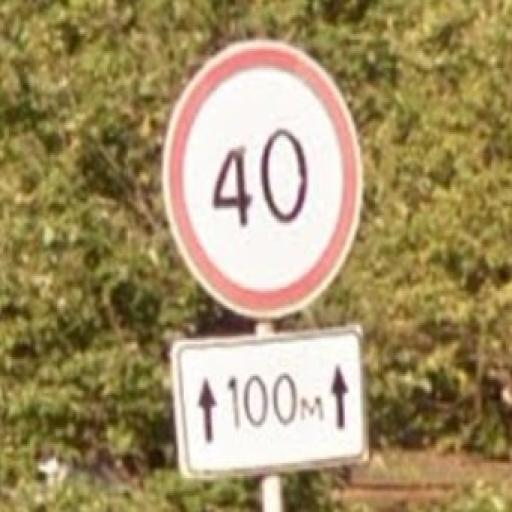traffic_sign: (162, 41, 367, 322)
